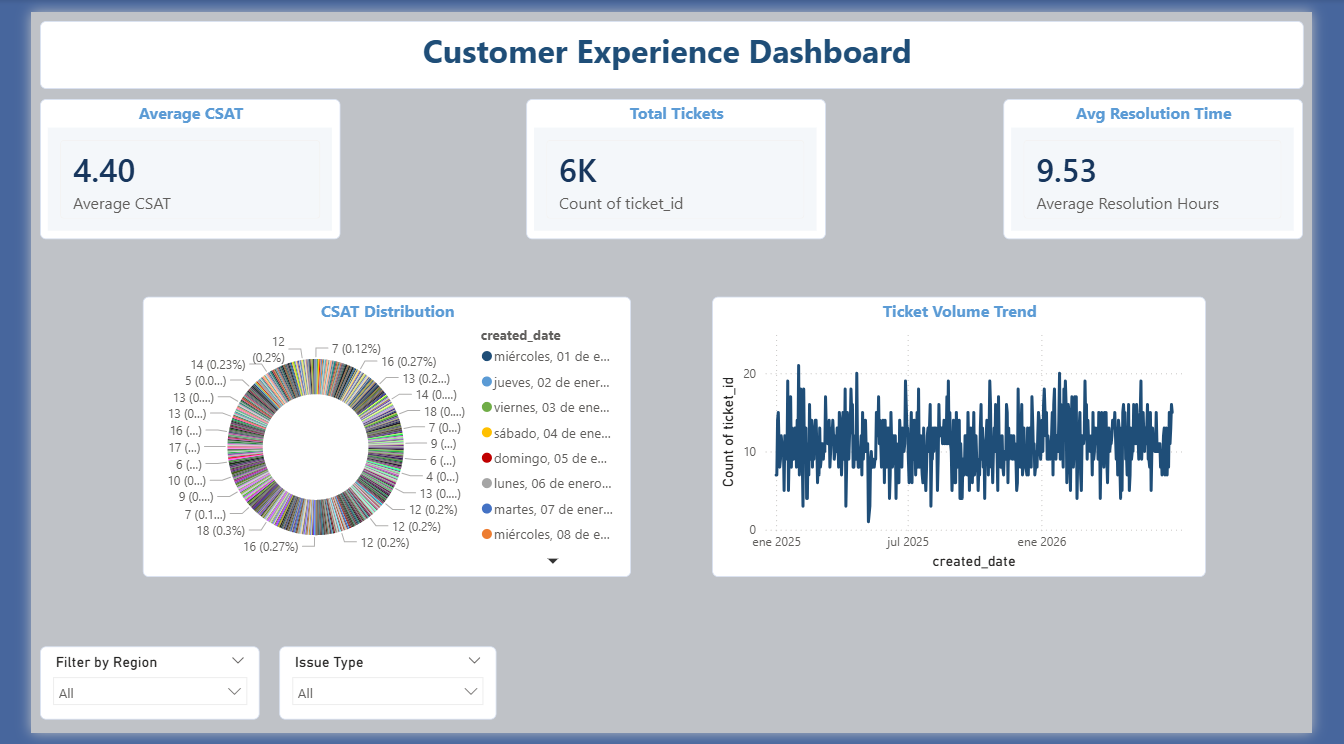

Layout of this report page (visuals, bound fields, positions):
{"tool":"powerbi","page":{"name":"Customer Experience Dashboard","canvas":[1280,720],"ordinal":2},"visuals":[{"type":"lineChart","title":"Ticket Volume Trend","fields":{"Y":["CountNonNull(Fact_SupportTickets.ticket_id)"],"Category":["Fact_SupportTickets.created_date"]},"box":[680.5,284,492.9,280.2],"z":0},{"type":"donutChart","title":"CSAT Distribution","fields":{"Category":["Fact_SupportTickets.created_date"],"Y":["Fact_SupportTickets.Total Tickets"]},"box":[111.3,284,487.9,280.2],"z":1000},{"type":"cardVisual","title":"Average CSAT","fields":{"Data":["Fact_SupportTickets.Average CSAT"]},"box":[9.1,87,300,140.3],"z":2000},{"type":"cardVisual","title":"Total Tickets","fields":{"Data":["CountNonNull(Fact_SupportTickets.ticket_id)"]},"box":[495.4,87.6,299,140.1],"z":3000},{"type":"cardVisual","title":"Avg Resolution Time","fields":{"Data":["Fact_SupportTickets.Average Resolution Hours"]},"box":[972,87.6,299,140.1],"z":4000},{"type":"textbox","box":[9.1,9.1,1262.3,67.5],"z":5000},{"type":"slicer","fields":{"Values":["Fact_SupportTickets.region"]},"box":[9.1,633.8,219.5,72.7],"z":6000},{"type":"slicer","fields":{"Values":["Fact_SupportTickets.issue_type"]},"box":[248.1,633.8,216.9,72.7],"z":7000}]}

Visuals, with their boxes in screenshot pixels (x1, y1, x2, y2), scaled from the page's 1280x720 canvas onto the 1344x744 screenshot:
"Ticket Volume Trend" lineChart: (715, 293, 1232, 583)
"CSAT Distribution" donutChart: (117, 293, 629, 583)
"Average CSAT" cardVisual: (10, 90, 325, 235)
"Total Tickets" cardVisual: (520, 91, 834, 235)
"Avg Resolution Time" cardVisual: (1021, 91, 1335, 235)
textbox: (10, 9, 1335, 79)
slicer - Fact_SupportTickets.region: (10, 655, 240, 730)
slicer - Fact_SupportTickets.issue_type: (261, 655, 488, 730)
